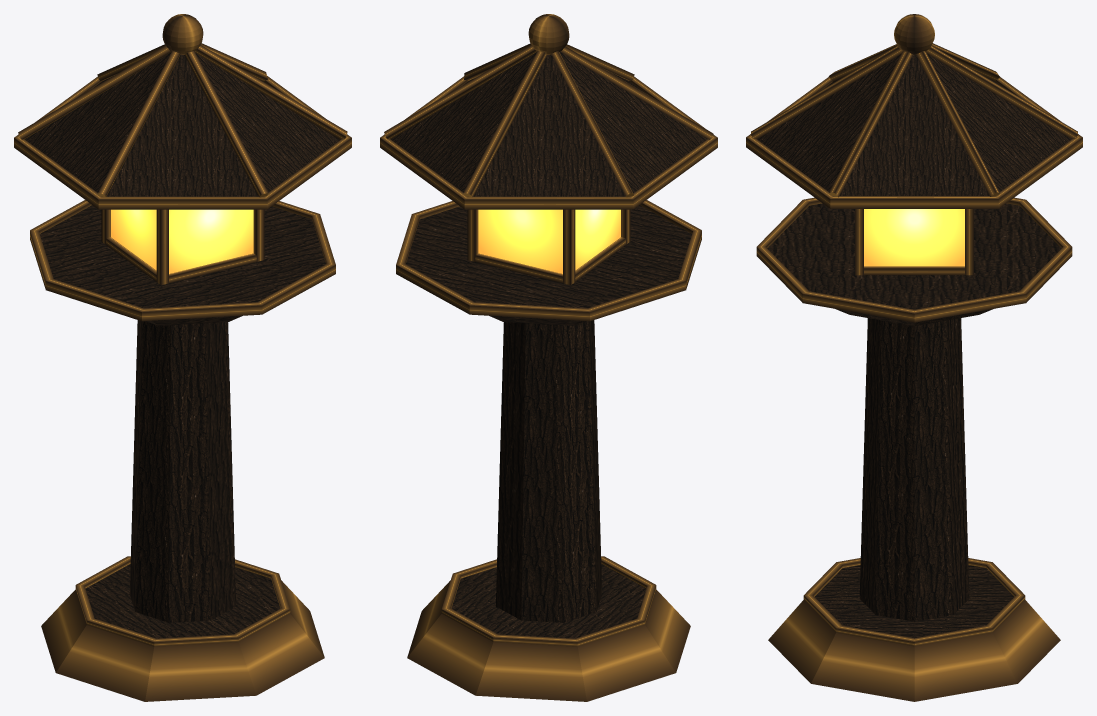
File: zen_lantern_original.glb
3 views of the same model, side by side, from view 1: azimuth 30°, elevation 25°; view 2: azimuth 150°, elevation 25°; view 3: azimuth 270°, elevation 25° (orthographic).
Parts seen in each view (by area): view 1: LANTERN ORIGINAL | Lantern part 04, LANTERN ORIGINAL | CornerLanternFacetedBarkRoof 20, LANTERN ORIGINAL | Lantern part 00, LANTERN ORIGINAL | Lantern part 05, LANTERN ORIGINAL | CornerLanternRoofGoldTrims 21, LANTERN ORIGINAL | CornerLanternPrivacyGlowBox 19, LANTERN ORIGINAL | Lantern part 06, LANTERN ORIGINAL | Lantern part 01, LANTERN ORIGINAL | Lantern part 02, LANTERN ORIGINAL | CornerLanternFinialBall 22, LANTERN ORIGINAL | Lantern part 08, LANTERN ORIGINAL | Lantern part 12 (+2 smaller); view 2: LANTERN ORIGINAL | Lantern part 04, LANTERN ORIGINAL | CornerLanternFacetedBarkRoof 20, LANTERN ORIGINAL | Lantern part 00, LANTERN ORIGINAL | Lantern part 05, LANTERN ORIGINAL | CornerLanternRoofGoldTrims 21, LANTERN ORIGINAL | CornerLanternPrivacyGlowBox 19, LANTERN ORIGINAL | Lantern part 06, LANTERN ORIGINAL | Lantern part 01, LANTERN ORIGINAL | Lantern part 02, LANTERN ORIGINAL | CornerLanternFinialBall 22, LANTERN ORIGINAL | Lantern part 07, LANTERN ORIGINAL | Lantern part 11 (+2 smaller); view 3: LANTERN ORIGINAL | Lantern part 04, LANTERN ORIGINAL | CornerLanternFacetedBarkRoof 20, LANTERN ORIGINAL | Lantern part 00, LANTERN ORIGINAL | Lantern part 05, LANTERN ORIGINAL | CornerLanternRoofGoldTrims 21, LANTERN ORIGINAL | Lantern part 06, LANTERN ORIGINAL | Lantern part 01, LANTERN ORIGINAL | CornerLanternPrivacyGlowBox 19, LANTERN ORIGINAL | Lantern part 02, LANTERN ORIGINAL | CornerLanternFinialBall 22, LANTERN ORIGINAL | Lantern part 14, LANTERN ORIGINAL | Lantern part 09 (+1 smaller).
Boxes of the visible parts, <box> form: LANTERN ORIGINAL | Lantern part 04: <box>129,320,236,622</box>; LANTERN ORIGINAL | CornerLanternFacetedBarkRoof 20: <box>25,52,339,196</box>; LANTERN ORIGINAL | Lantern part 00: <box>41,580,324,701</box>; LANTERN ORIGINAL | Lantern part 05: <box>40,205,325,325</box>; LANTERN ORIGINAL | CornerLanternRoofGoldTrims 21: <box>14,43,351,209</box>; LANTERN ORIGINAL | CornerLanternPrivacyGlowBox 19: <box>111,209,253,273</box>; LANTERN ORIGINAL | Lantern part 06: <box>30,200,335,321</box>; LANTERN ORIGINAL | Lantern part 01: <box>85,564,280,638</box>; LANTERN ORIGINAL | Lantern part 02: <box>75,556,290,646</box>; LANTERN ORIGINAL | CornerLanternFinialBall 22: <box>162,14,203,54</box>; LANTERN ORIGINAL | Lantern part 08: <box>156,209,168,285</box>; LANTERN ORIGINAL | Lantern part 12: <box>169,253,256,283</box>; LANTERN ORIGINAL | Lantern part 04: <box>495,320,602,622</box>; LANTERN ORIGINAL | CornerLanternFacetedBarkRoof 20: <box>391,52,707,196</box>; LANTERN ORIGINAL | Lantern part 00: <box>407,580,690,701</box>; LANTERN ORIGINAL | Lantern part 05: <box>406,205,691,325</box>; LANTERN ORIGINAL | CornerLanternRoofGoldTrims 21: <box>380,43,717,209</box>; LANTERN ORIGINAL | CornerLanternPrivacyGlowBox 19: <box>478,209,620,273</box>; LANTERN ORIGINAL | Lantern part 06: <box>396,200,701,321</box>; LANTERN ORIGINAL | Lantern part 01: <box>451,564,646,638</box>; LANTERN ORIGINAL | Lantern part 02: <box>441,556,656,646</box>; LANTERN ORIGINAL | CornerLanternFinialBall 22: <box>528,14,569,54</box>; LANTERN ORIGINAL | Lantern part 07: <box>563,209,575,285</box>; LANTERN ORIGINAL | Lantern part 11: <box>475,253,562,283</box>; LANTERN ORIGINAL | Lantern part 04: <box>859,318,969,621</box>; LANTERN ORIGINAL | CornerLanternFacetedBarkRoof 20: <box>757,54,1071,195</box>; LANTERN ORIGINAL | Lantern part 00: <box>768,600,1060,701</box>; LANTERN ORIGINAL | Lantern part 05: <box>767,203,1061,325</box>; LANTERN ORIGINAL | CornerLanternRoofGoldTrims 21: <box>746,43,1082,208</box>; LANTERN ORIGINAL | Lantern part 06: <box>756,197,1072,322</box>; LANTERN ORIGINAL | Lantern part 01: <box>815,565,1013,638</box>; LANTERN ORIGINAL | CornerLanternPrivacyGlowBox 19: <box>864,209,964,266</box>; LANTERN ORIGINAL | Lantern part 02: <box>803,558,1025,646</box>; LANTERN ORIGINAL | CornerLanternFinialBall 22: <box>894,14,934,54</box>; LANTERN ORIGINAL | Lantern part 14: <box>864,266,964,275</box>; LANTERN ORIGINAL | Lantern part 09: <box>965,209,973,275</box>.
Bounding box in the file's own units: 0.69 × 1.5 × 0.736.
3 materials, 3 textured.
